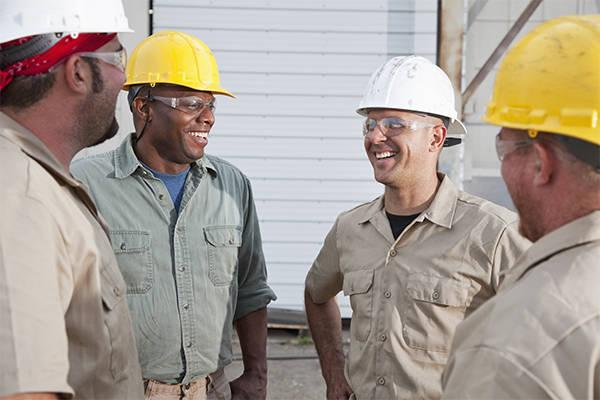helmet: (481, 17, 599, 151), (356, 54, 466, 128), (123, 31, 236, 99), (1, 1, 136, 47)
